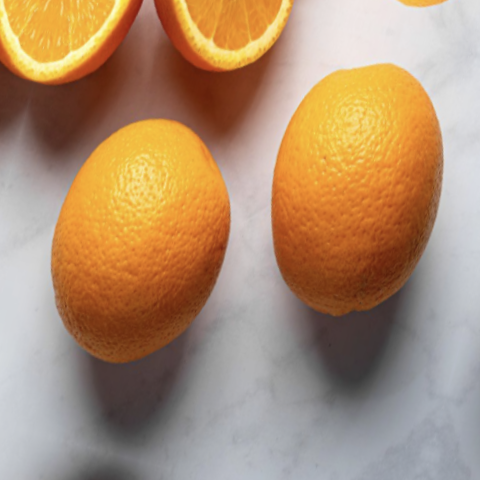orange: (224, 33, 480, 343), (11, 88, 269, 383)
